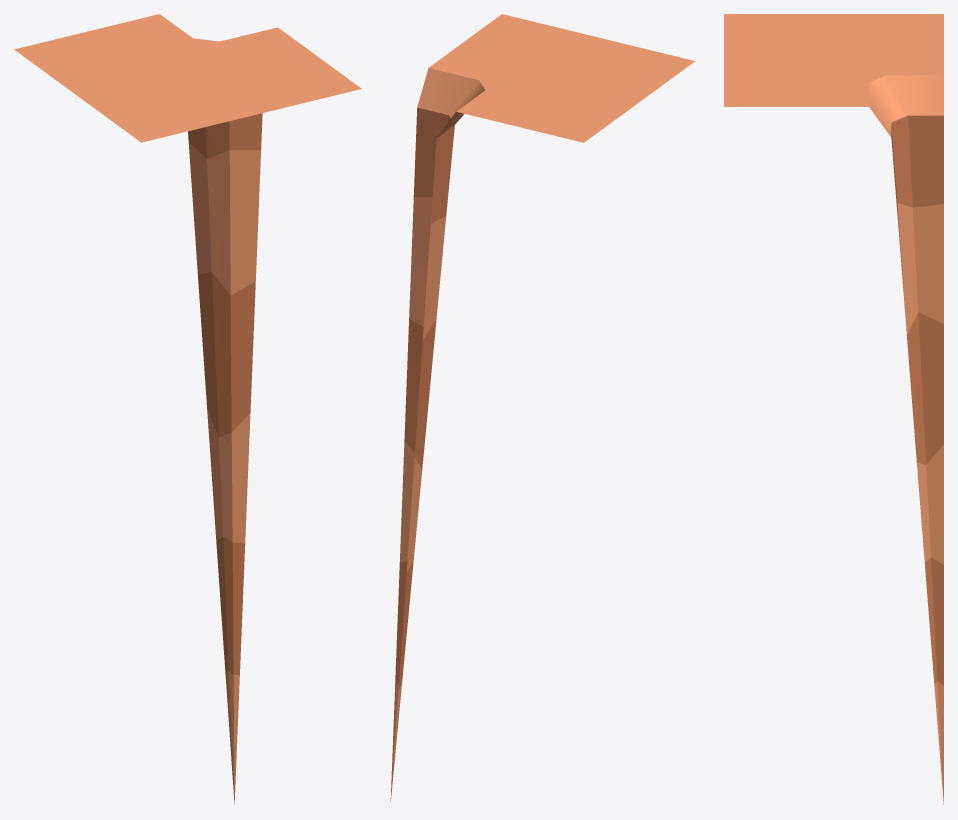
File: Inner_Corner_1.fbx
3 views of the same model, side by side, from view 1: azimuth 30°, elevation 25°; view 2: azimuth 150°, elevation 25°; view 3: azimuth 270°, elevation 25° (orthographic). The views are drawn at different scales.
Visible parts, largest first — view 1: Inner_Corner_1; view 2: Inner_Corner_1; view 3: Inner_Corner_1.
Boxes of the visible parts, x1=… form: Inner_Corner_1: x1=14, y1=14, x2=361, y2=803; Inner_Corner_1: x1=390, y1=14, x2=694, y2=801; Inner_Corner_1: x1=724, y1=14, x2=943, y2=804.
Size of the model in its own units: 200 by 702 by 200.
